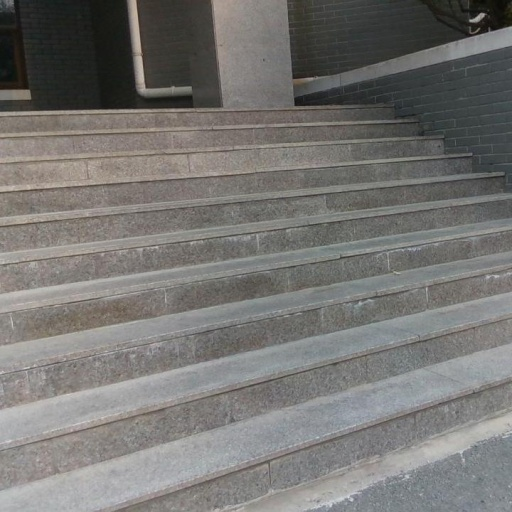Stairs: (0, 106, 512, 512)
